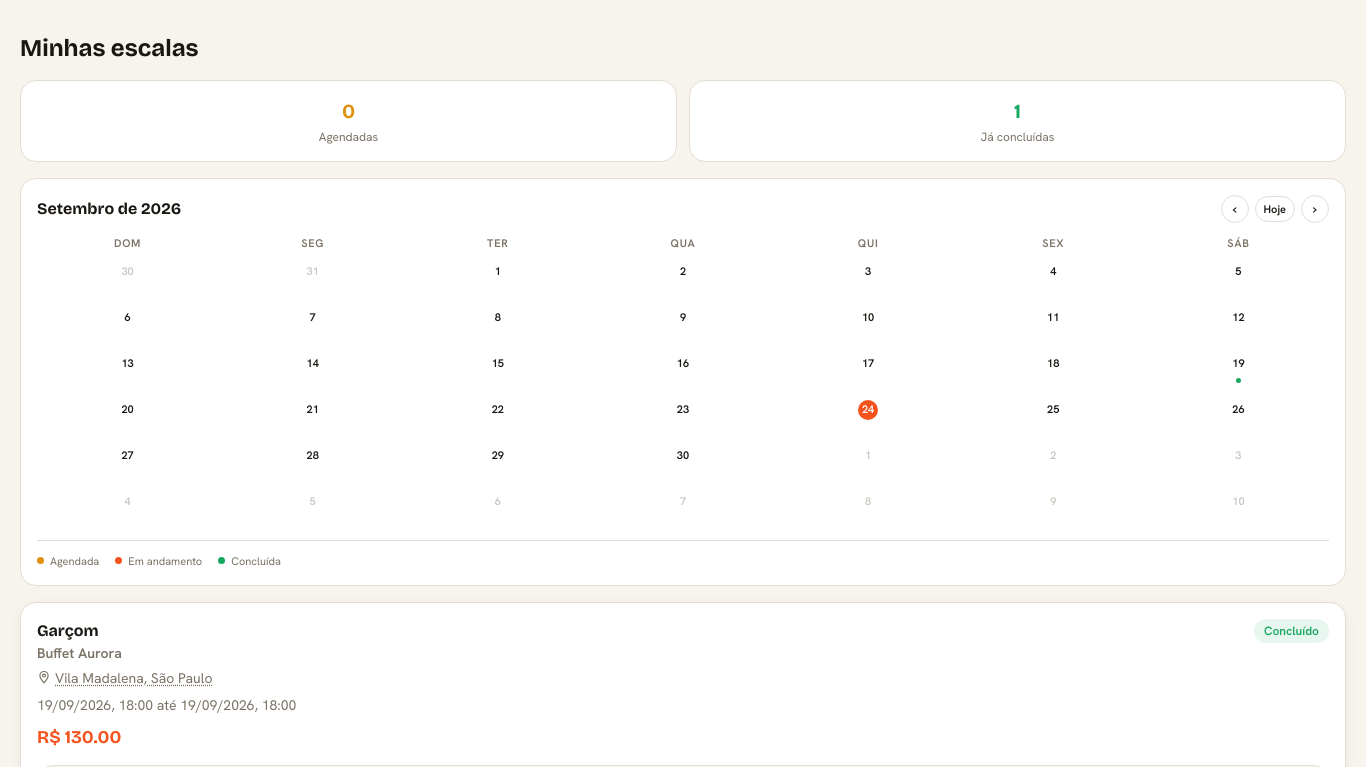
Scenario: AgendaPage › mostra o calendário com um ponto por escala do mês, e o endereço ao clicar num dia com escala concluída
Expected: the heading "Minhas escalas" is shown, [20, 34, 198, 62]
Click the button "19": (1238, 368) [1148, 348, 1329, 390]
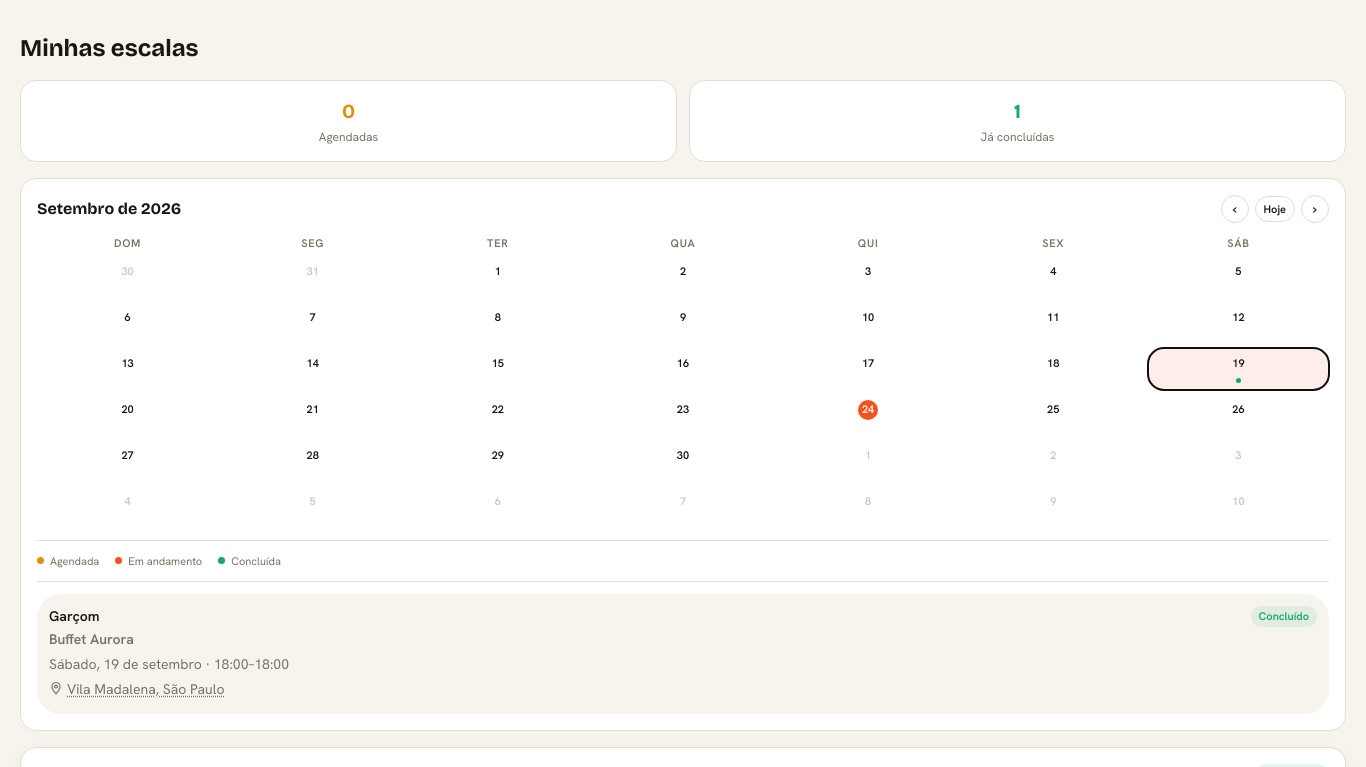
Result: the number of links "Vila Madalena, São Paulo" is 2
Result: the text "Buffet Aurora" is shown 2 times
